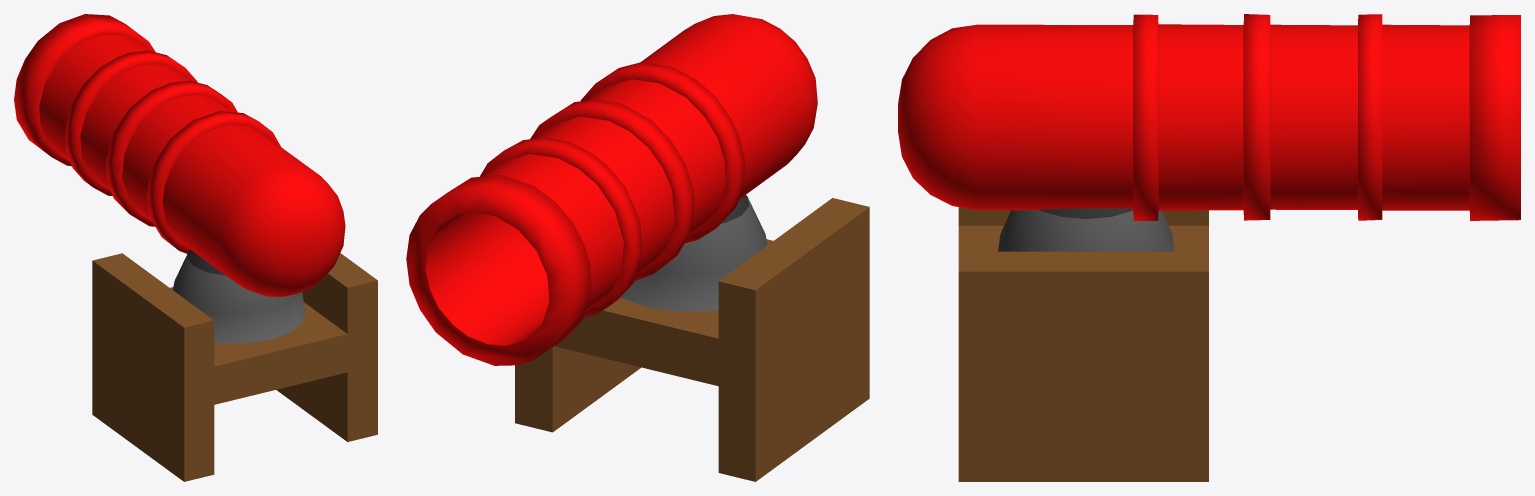
The model's file is Enemy_Cannon.fbx.
The picture shows the model from 3 angles, left to right: view 1: azimuth 30°, elevation 25°; view 2: azimuth 150°, elevation 25°; view 3: azimuth 270°, elevation 25°; orthographic projection. The views are drawn at different scales.
Parts seen in each view (by area): view 1: Cannon_00, Sphere; view 2: Cannon_00, Sphere; view 3: Cannon_00, Sphere.
Boxes of the visible parts, bbox=[...] form: Cannon_00: bbox=[14, 14, 345, 296]; Sphere: bbox=[92, 249, 377, 481]; Cannon_00: bbox=[406, 14, 817, 365]; Sphere: bbox=[515, 195, 869, 481]; Cannon_00: bbox=[898, 14, 1520, 220]; Sphere: bbox=[958, 207, 1208, 481].
Bounding box in the file's own units: 78.6 × 113 × 161.
